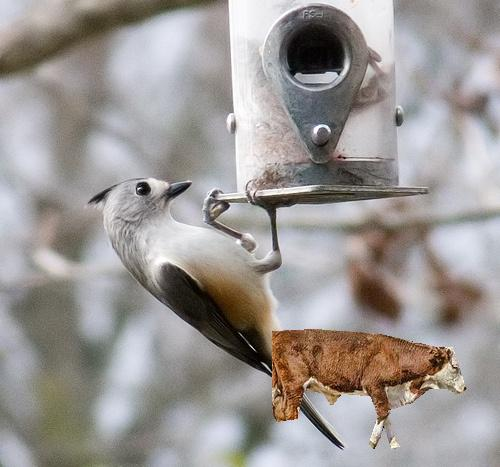tampered: (273, 330, 467, 449)
